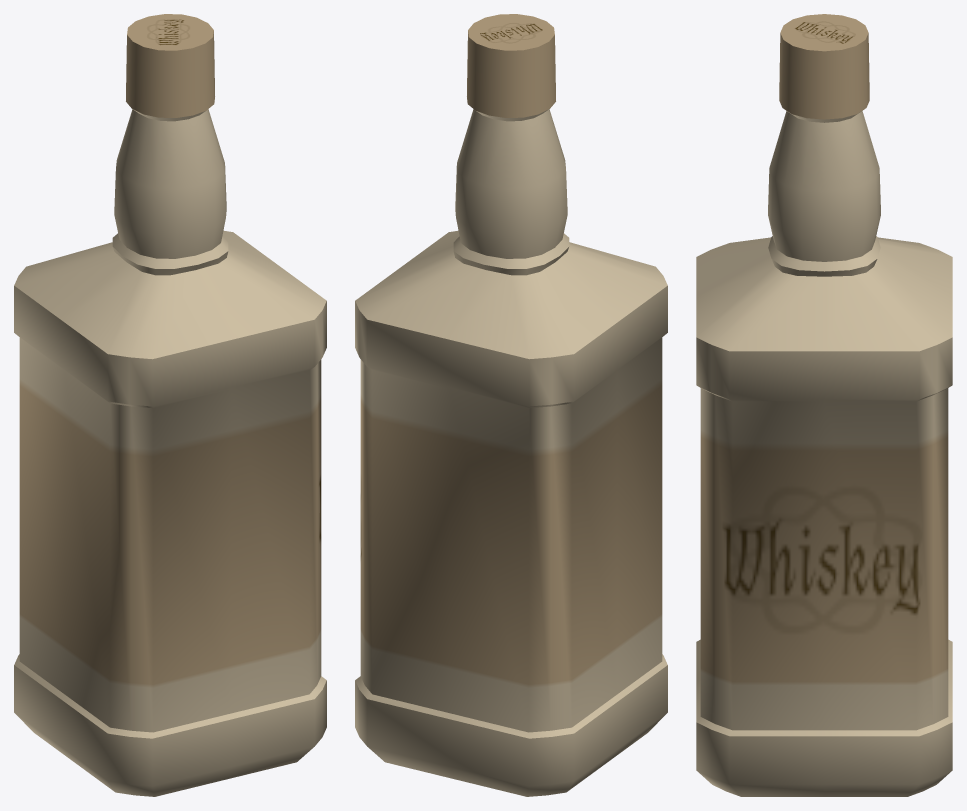
Rendered from bottle-whiskey.fbx.
3 renders of one model, left to right at view 1: azimuth 30°, elevation 25°; view 2: azimuth 150°, elevation 25°; view 3: azimuth 270°, elevation 25°, orthographic.
Parts seen in each view (by area): view 1: bottle_whiskey; view 2: bottle_whiskey; view 3: bottle_whiskey.
Boxes of the visible parts, left/top/right/bottom form: bottle_whiskey: left=14, top=14, right=326, bottom=796; bottle_whiskey: left=355, top=14, right=667, bottom=796; bottle_whiskey: left=696, top=14, right=952, bottom=796.
Size of the model in its own units: 0.0944 by 0.2912 by 0.0944.
